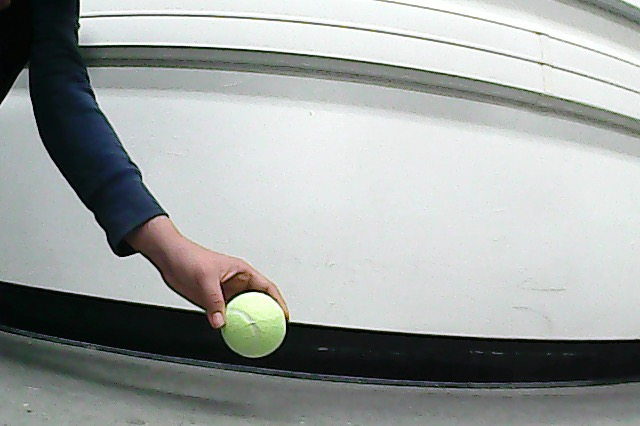ball: (217, 290, 289, 361)
